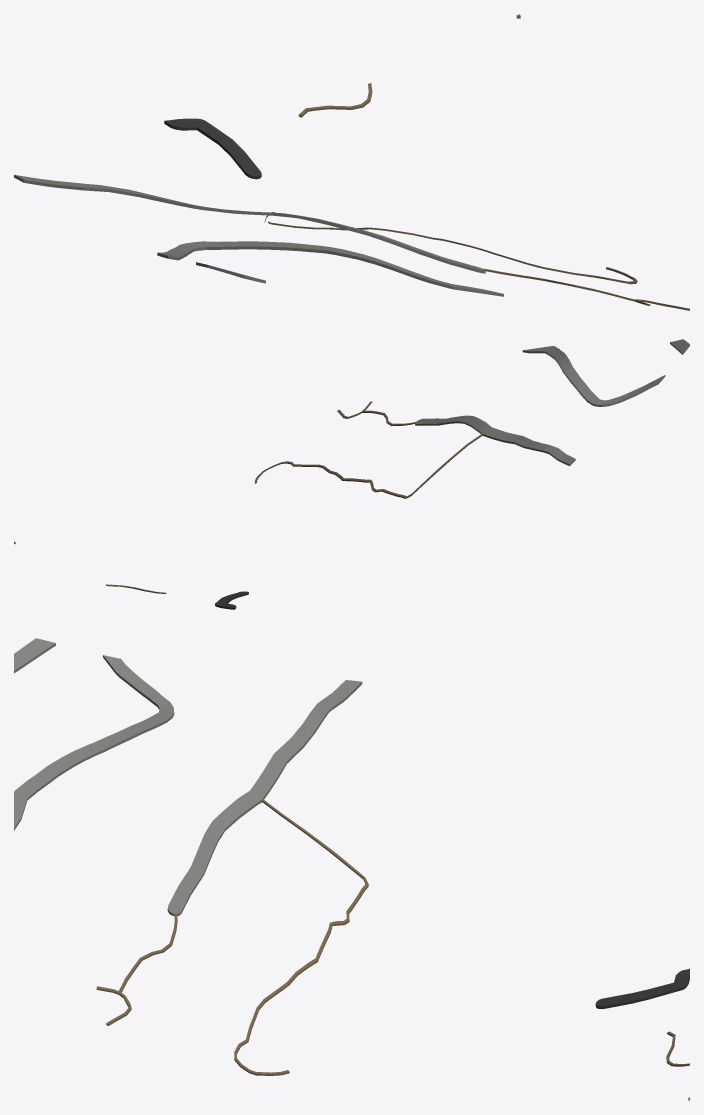
The picture shows the model from 3 angles, top to bottom: view 1: azimuth 30°, elevation 25°; view 2: azimuth 150°, elevation 25°; view 3: azimuth 270°, elevation 25°; orthographic projection. The views are drawn at different scales.
Size of the model in its own units: 293 by 101 by 292.
